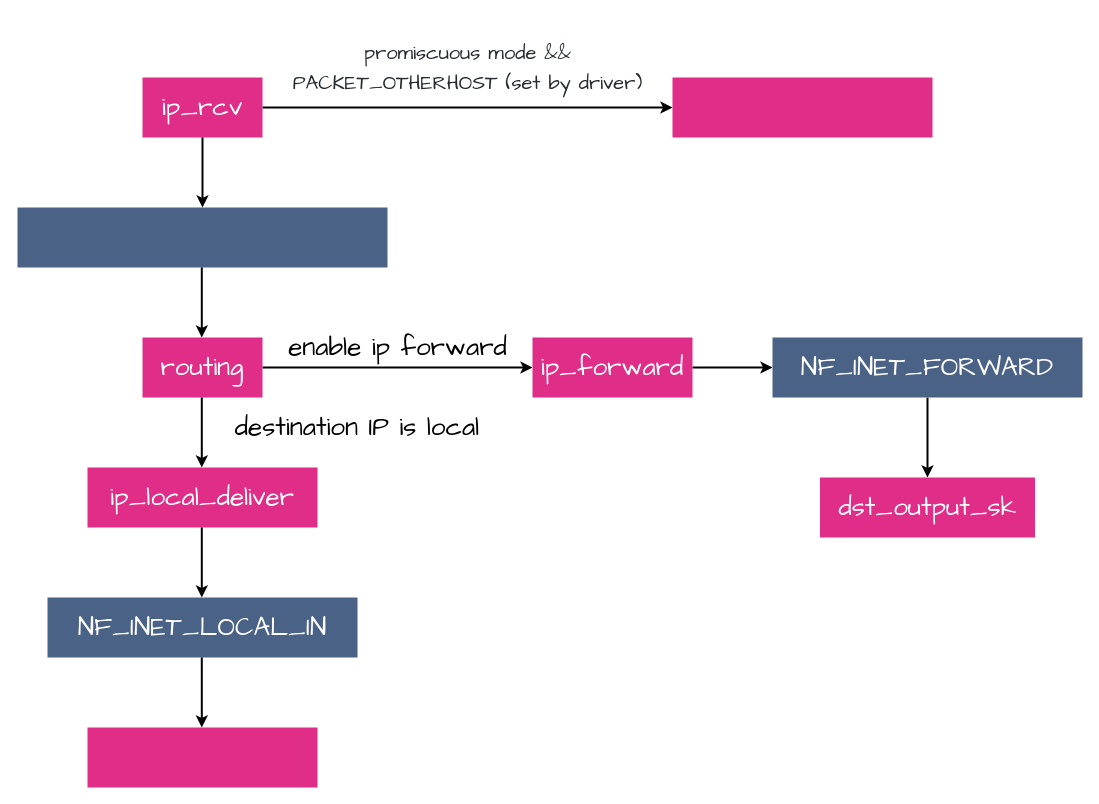
Some shapes in this 1099 by 804 pixel diagram are drawn without their labels. The shapes that lost their labels are listed below. From the top down, each one's centre as x and y in pixels, then its label:
At (x=802, y=107): "drop this package".
At (x=202, y=237): "NF_INET_PRE_ROUTING".
At (x=202, y=757): "UDP layer".
